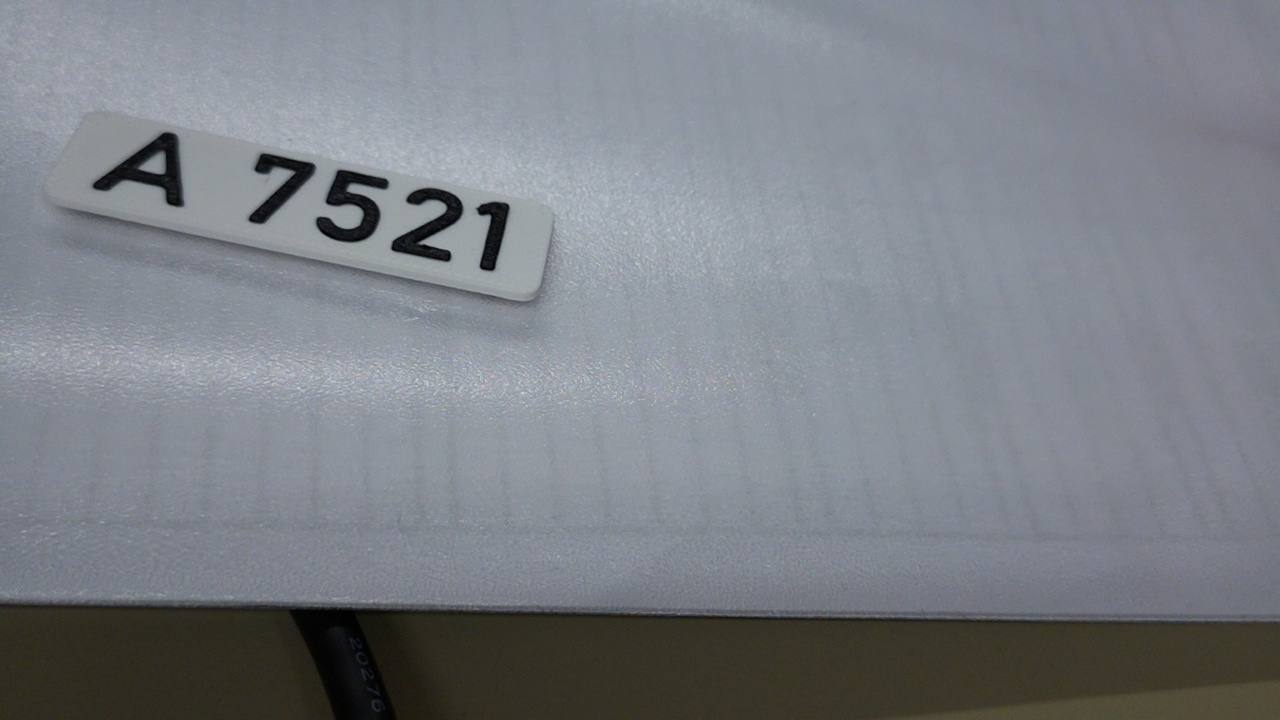license_plate: (38, 105, 558, 305)
